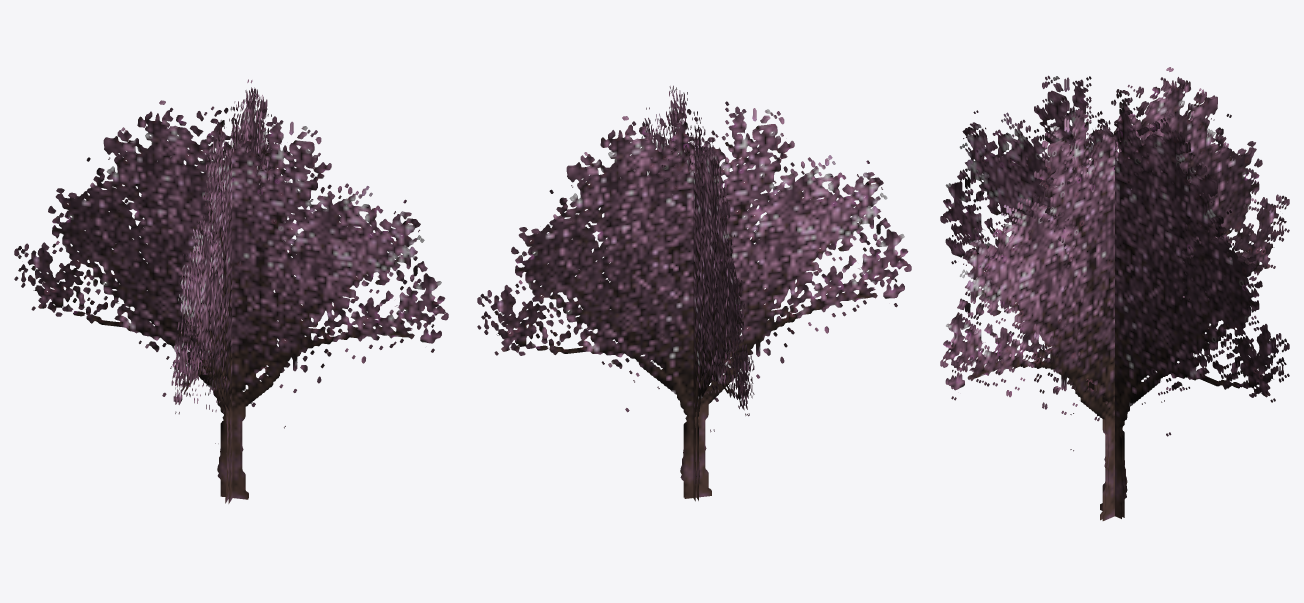
File: tree068.fbx
3 views of the same model, side by side, from view 1: azimuth 30°, elevation 25°; view 2: azimuth 150°, elevation 25°; view 3: azimuth 270°, elevation 25° (orthographic). The views are drawn at different scales.
Visible parts, largest first — view 1: tree068; view 2: tree068; view 3: tree068.
Boxes of the visible parts, box(x1,y1,x2,y2) form: tree068: box(14, 79, 448, 503); tree068: box(477, 85, 911, 501); tree068: box(940, 67, 1289, 520).
Bounding box in the file's own units: 241 × 335 × 241.
Materials: 1 (1 with a texture image).
